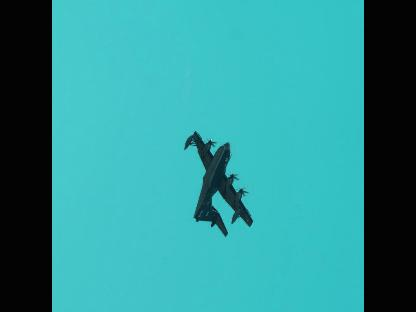Tu95: (184, 129, 254, 235)
